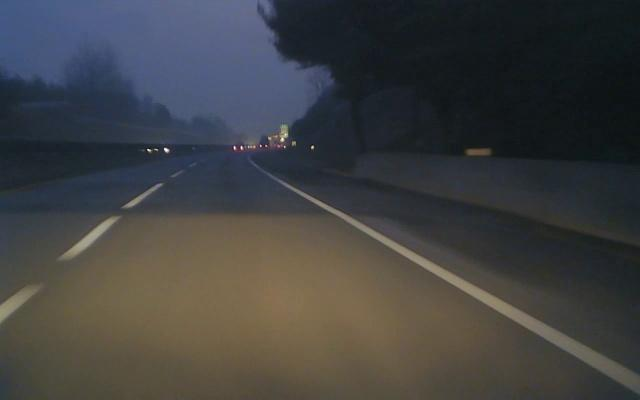lane: (308, 198, 640, 394), (0, 184, 162, 326)
